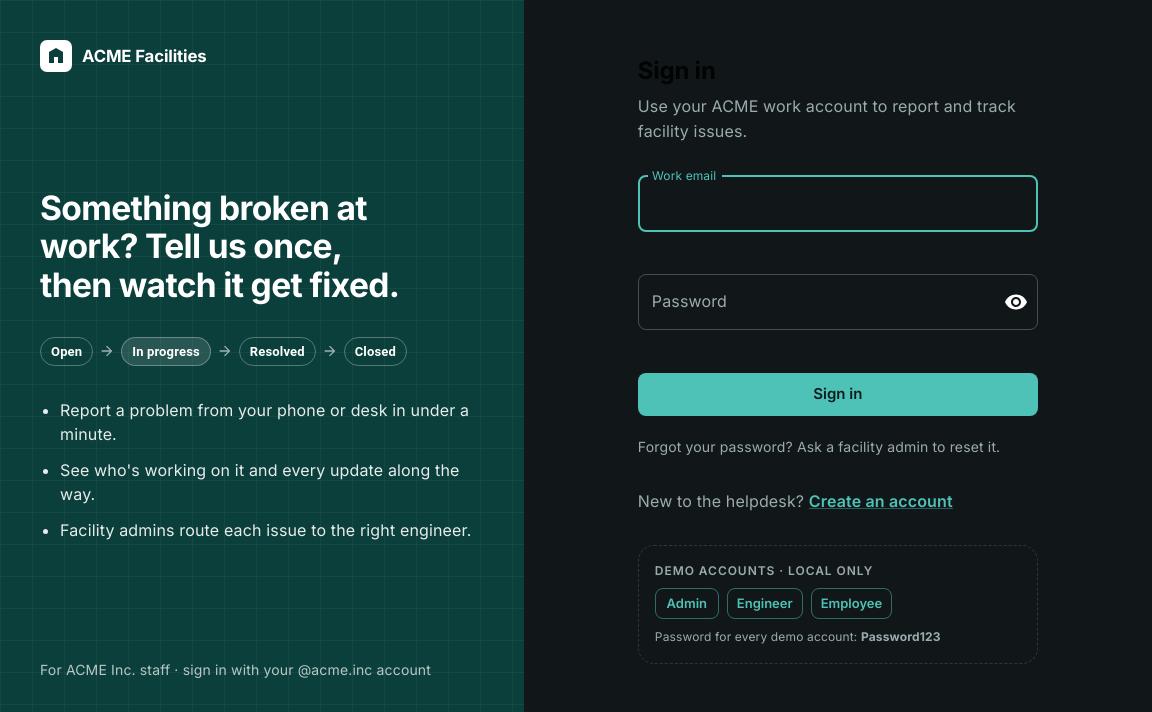
Scenario: Login page › says so when the server is unreachable or failing
The width and height of the screenshot is (1152, 712).
Type "maria.garcia@acme.inc" into the field labelled "Work email".
click(838, 204); type("maria.garcia@acme.inc")  # box [638,176,1038,232]
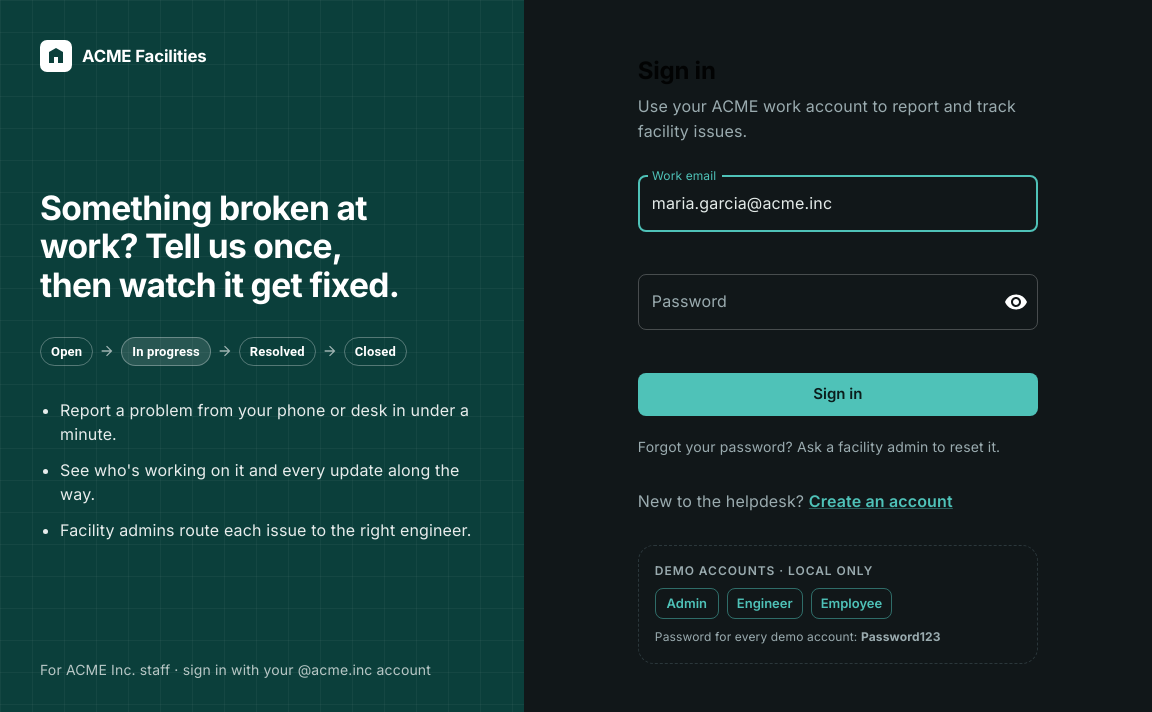
Type "Password123" into the password field labelled "Password".
click(813, 302); type("Password123")  # box [638,274,988,330]
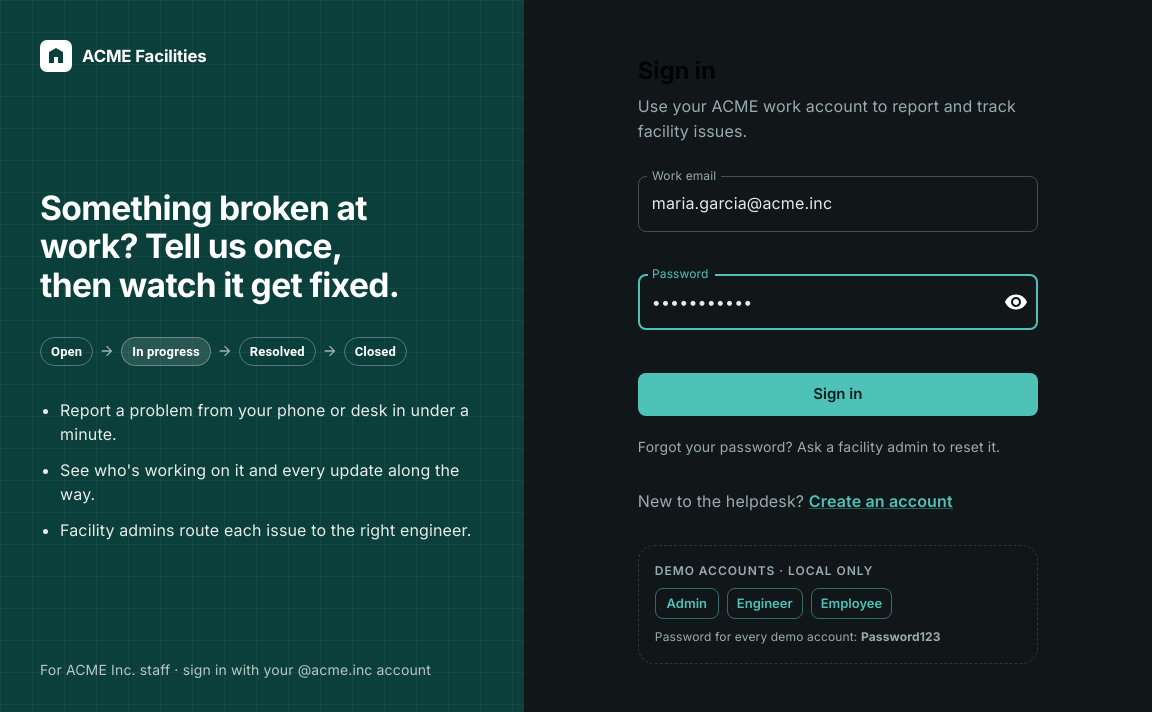
Click the button "Sign in".
click(838, 394)  # box [638,373,1038,416]
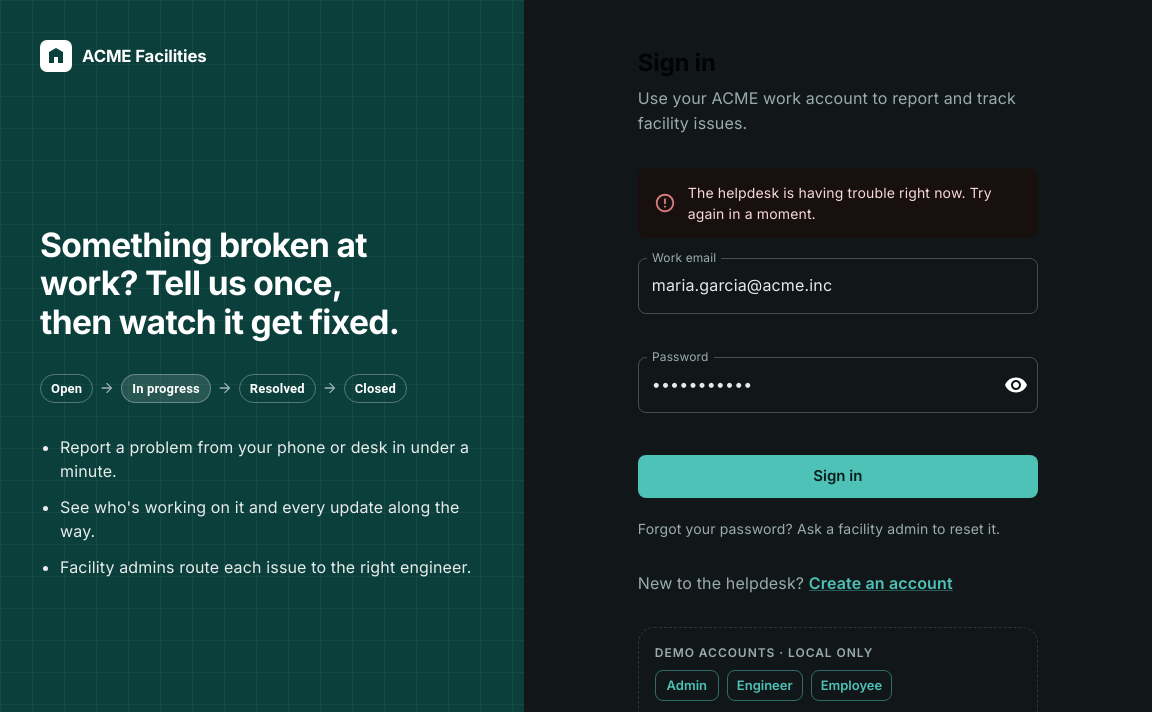
expect the message shows "The helpdesk is having trouble right now.": met, box [688,184,992,222]
